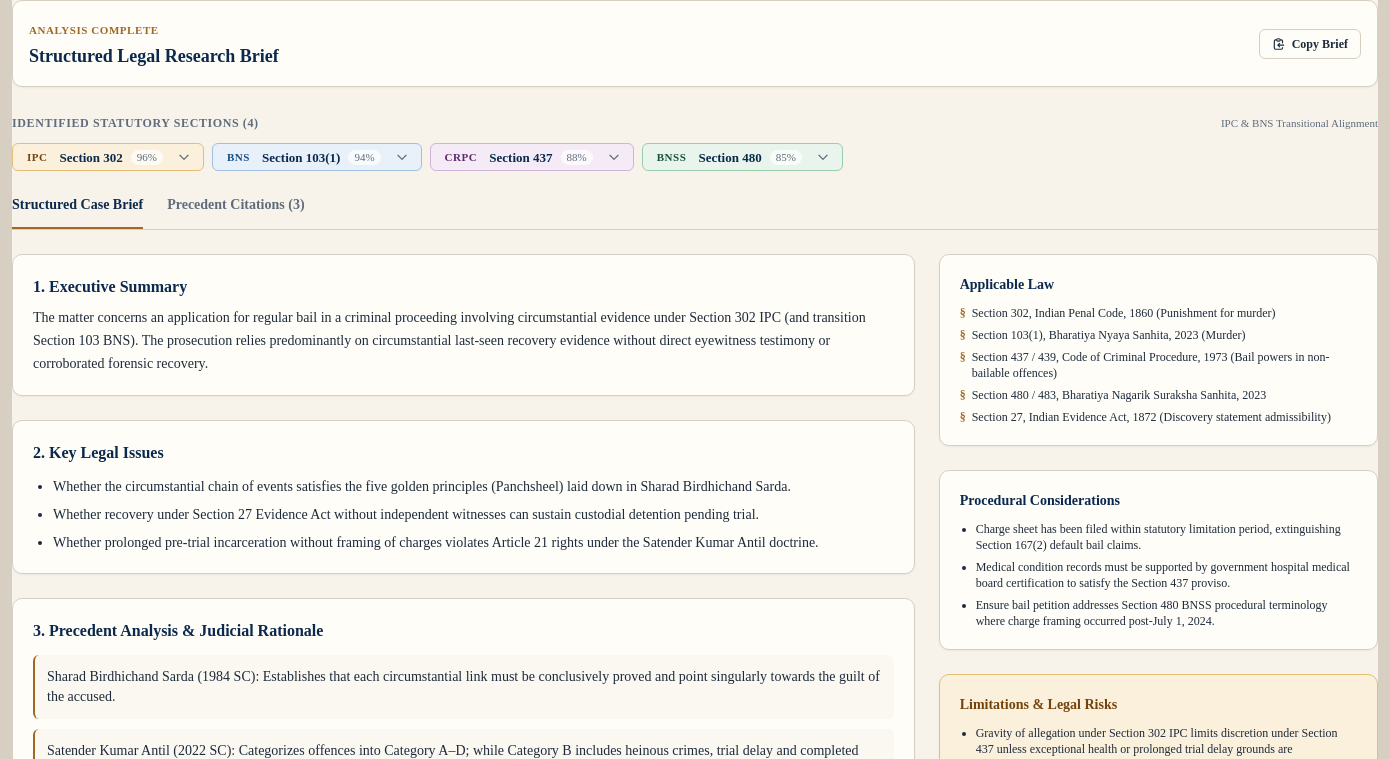
Test: ProfessionalResultsView Component › copies brief text when Copy Brief is clicked
The width and height of the screenshot is (1390, 759).
Click the button "Copy Brief": (1310, 44) x1=1259 y1=28 x2=1361 y2=58
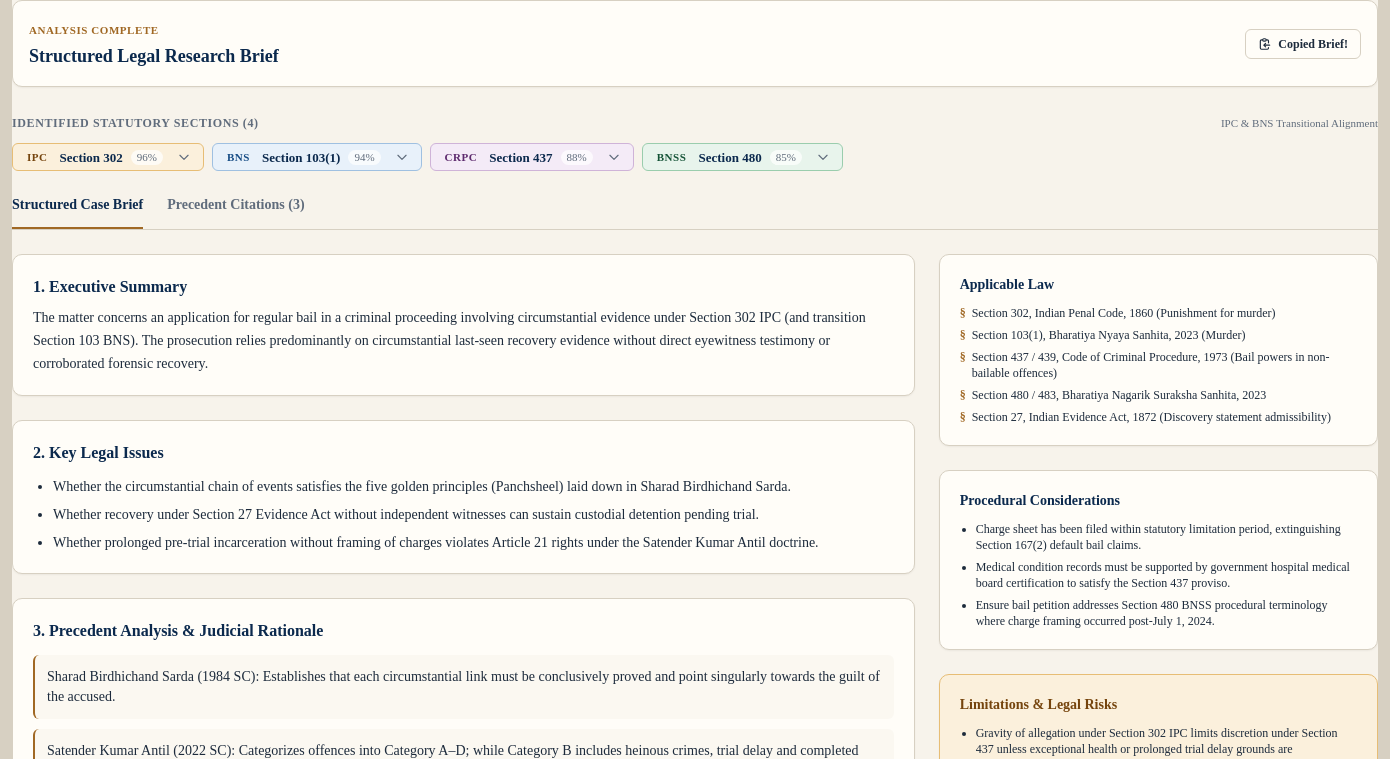
Now the text "Copied Brief!" is shown, box x1=1278 y1=36 x2=1348 y2=52
